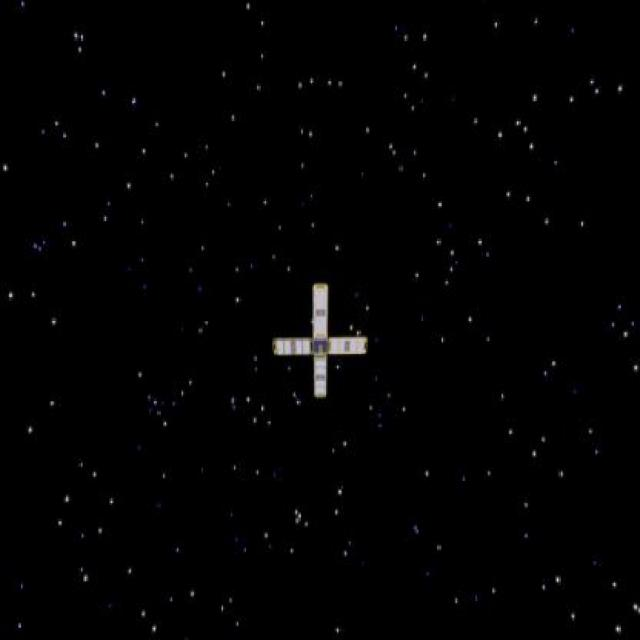satellite: (266, 273, 386, 414)
